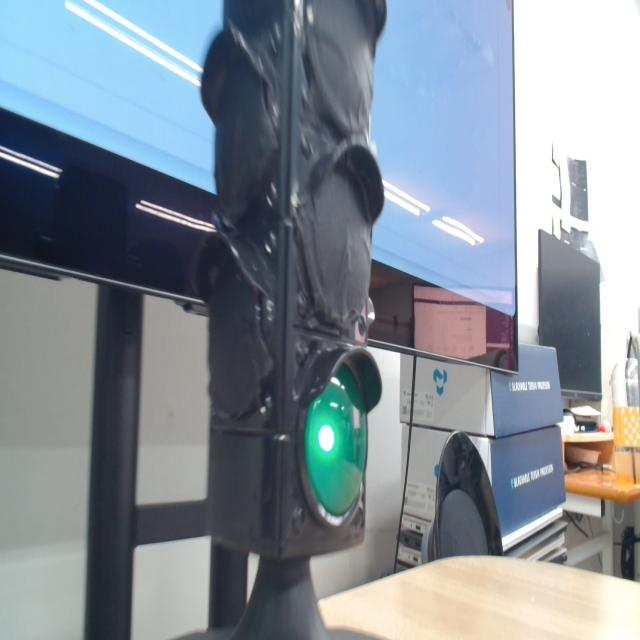green_light: (305, 366, 366, 516)
